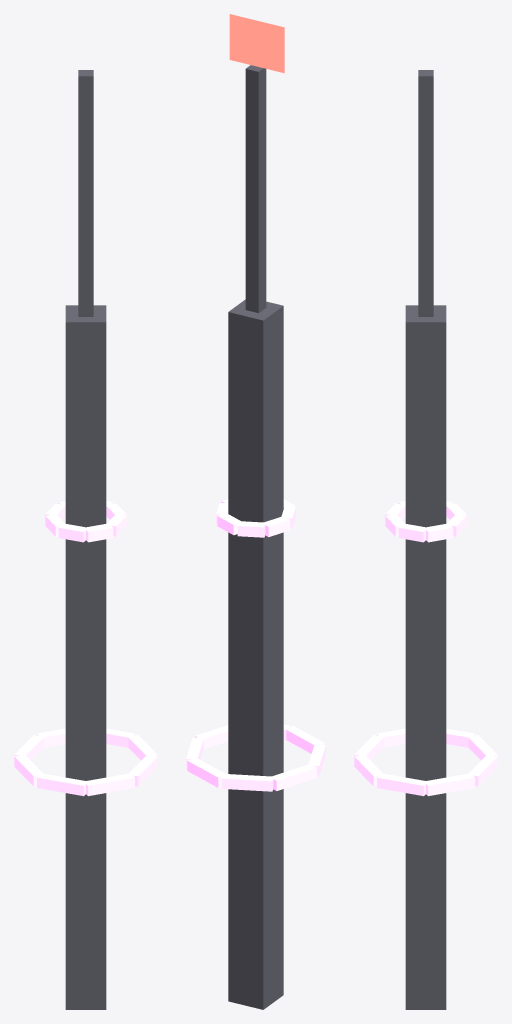
The model's file is crown_spire.glb.
3 views of the same model, side by side, from view 1: azimuth 90°, elevation 25°; view 2: azimuth 150°, elevation 25°; view 3: azimuth 270°, elevation 25° (orthographic).
Parts seen in each view (by area): view 1: crown_spire; view 2: crown_spire; view 3: crown_spire.
Part boxes in pixels (x1,y1,x2,y2): crown_spire: (14, 70, 157, 1009); crown_spire: (186, 14, 325, 1009); crown_spire: (354, 70, 497, 1009).
Bounding box in the file's own units: 1.13 × 8.5 × 1.13.
